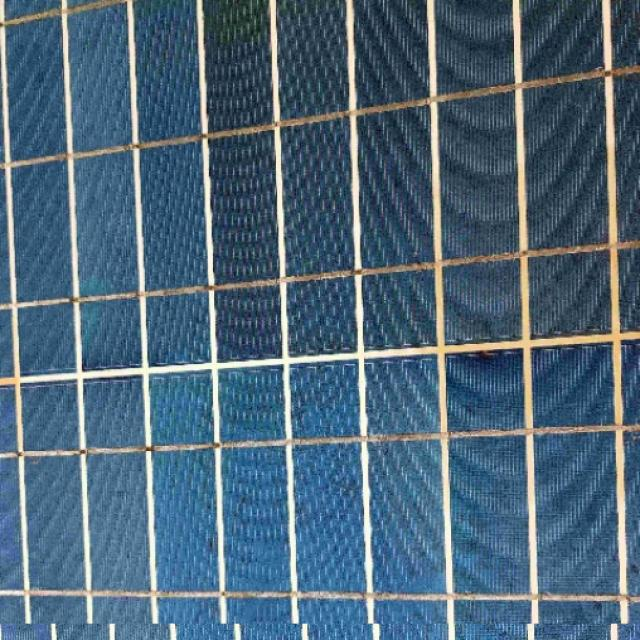Clean: (0, 0, 640, 624)
